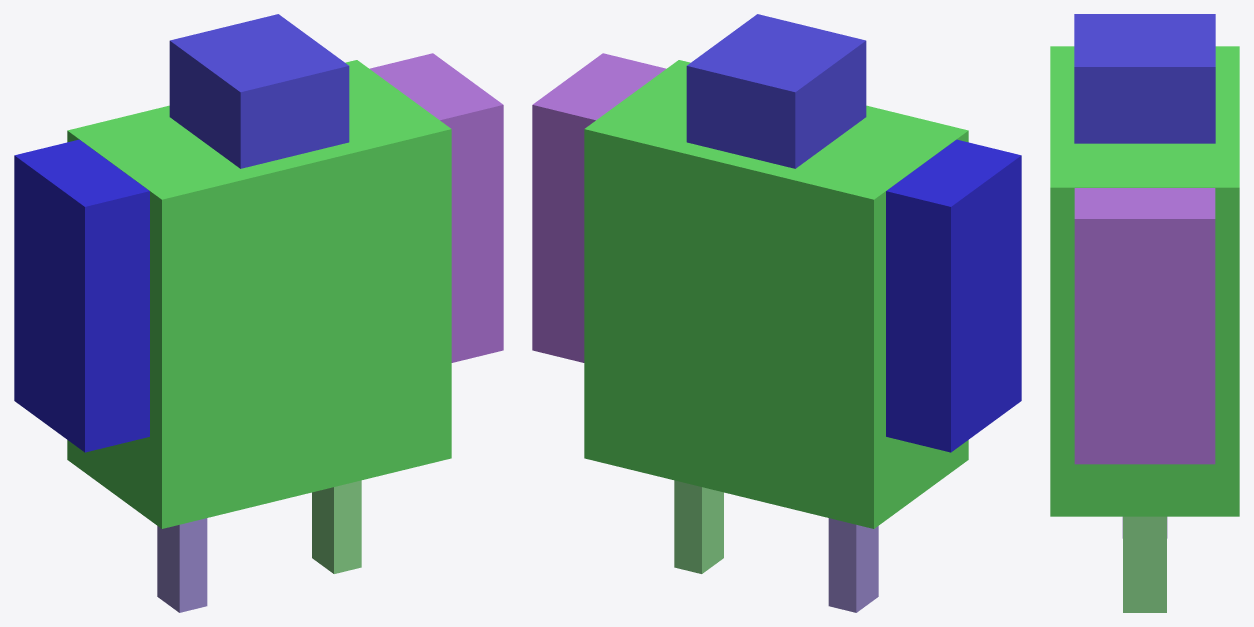
File: robot1.gltf
The picture shows the model from 3 angles, left to right: view 1: azimuth 30°, elevation 25°; view 2: azimuth 150°, elevation 25°; view 3: azimuth 270°, elevation 25°; orthographic projection.
Parts seen in each view (by area): view 1: cube_body, cube_arm, cuibe_head, cube_arm2, cube_leg2, cube_leg; view 2: cube_body, cube_arm, cuibe_head, cube_arm2, cube_leg2, cube_leg; view 3: cube_arm2, cube_body, cuibe_head, cube_leg.
Part boxes in pixels (x1,y1,x2,y2): cube_body: [67, 60, 451, 528]; cube_arm: [14, 139, 149, 452]; cuibe_head: [169, 14, 349, 168]; cube_arm2: [369, 53, 503, 362]; cube_leg2: [157, 518, 207, 612]; cube_leg: [312, 480, 361, 573]; cube_body: [584, 60, 968, 528]; cube_arm: [886, 139, 1021, 452]; cuibe_head: [686, 14, 866, 168]; cube_arm2: [532, 53, 666, 362]; cube_leg2: [828, 518, 878, 612]; cube_leg: [674, 480, 723, 573]; cube_arm2: [1074, 188, 1215, 464]; cube_body: [1050, 46, 1239, 516]; cuibe_head: [1074, 14, 1215, 143]; cube_leg: [1123, 516, 1166, 612].
Bounding box in the file's own units: 1.47 × 1.78 × 0.5763.
